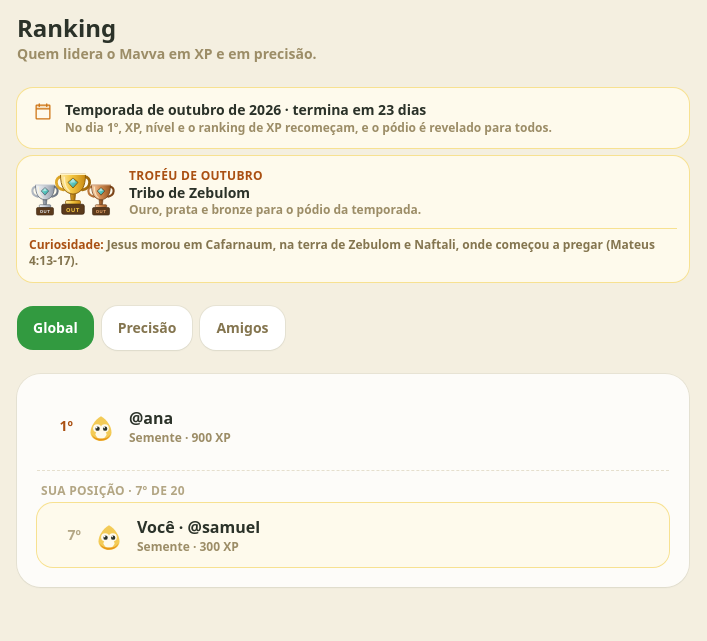
it: RankingPage › Precisão tab › shows an empty state while nobody qualifies
Click the button "Precisão": {"x": 147, "y": 328} [102,306,192,350]
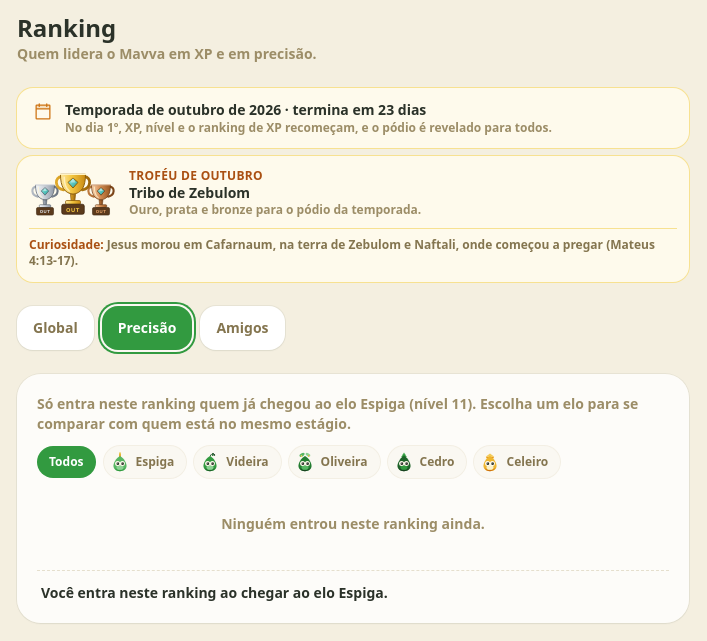
Expected: the text "Só entra neste ranking quem já chegou ao elo Espiga (nível 11)" is shown, [37,394,669,434]
Expected: the text "Ninguém entrou neste ranking ainda." is shown, [221,514,485,532]
